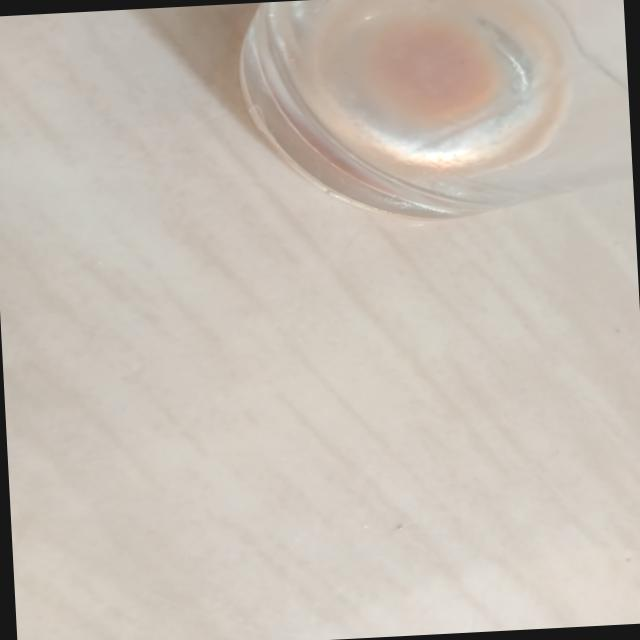glass-VX4N: (224, 0, 634, 234)
